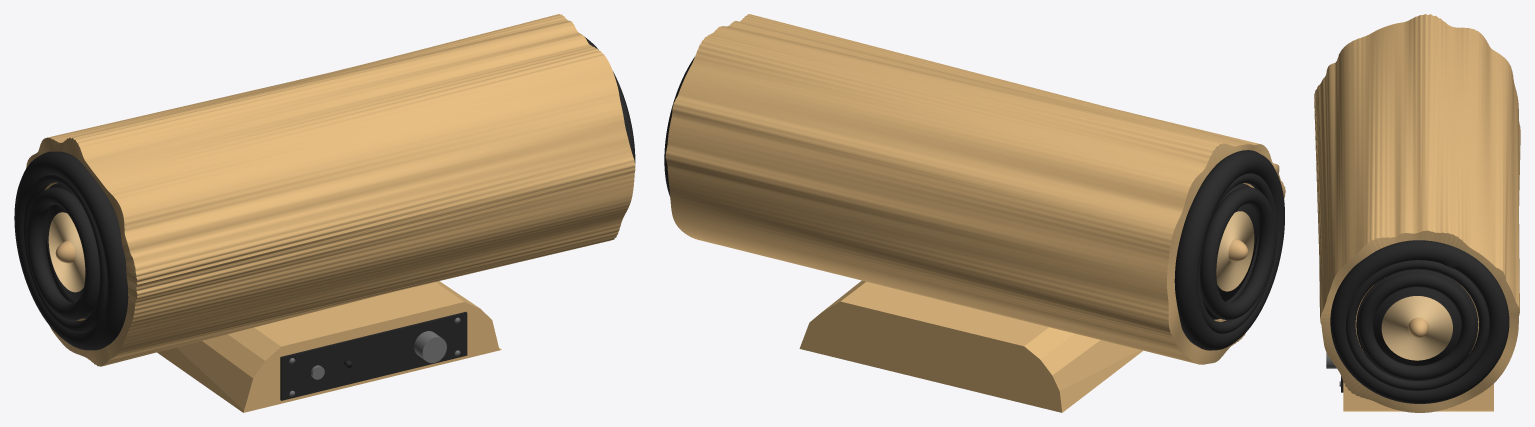
File: nenrin-speaker-new.glb
3 renders of one model, left to right at view 1: azimuth 30°, elevation 25°; view 2: azimuth 150°, elevation 25°; view 3: azimuth 270°, elevation 25°, orthographic. The views are drawn at different scales.
Visible parts, largest first — view 1: cedar_bright, matte_black, matte_black.008, cedar_endgrain, rubber_surround.003, endgrain_wood, matte_black.005, wood_cone.004, matte_black.009; view 2: cedar_bright, cedar_endgrain, matte_black.008, rubber_surround.003, endgrain_wood, wood_cone.004, matte_black.005, matte_black.009; view 3: cedar_bright, matte_black.001, endgrain_wood, rubber_surround.002, matte_black.003, wood_cone.003, matte_black, copper_cap.
Boxes of the visible parts, bbox=[...] form: cedar_bright: bbox=[48, 14, 635, 412]; matte_black: bbox=[280, 311, 467, 400]; matte_black.008: bbox=[14, 151, 128, 350]; cedar_endgrain: bbox=[243, 302, 499, 412]; rubber_surround.003: bbox=[26, 187, 99, 319]; endgrain_wood: bbox=[26, 137, 137, 366]; matte_black.005: bbox=[23, 175, 106, 332]; wood_cone.004: bbox=[48, 212, 85, 292]; matte_black.009: bbox=[43, 183, 89, 318]; cedar_bright: bbox=[665, 14, 1275, 412]; cedar_endgrain: bbox=[799, 301, 1062, 412]; matte_black.008: bbox=[1174, 150, 1284, 350]; rubber_surround.003: bbox=[1200, 187, 1275, 319]; endgrain_wood: bbox=[1167, 143, 1285, 364]; wood_cone.004: bbox=[1216, 211, 1254, 291]; matte_black.005: bbox=[1198, 173, 1277, 333]; matte_black.009: bbox=[1202, 183, 1258, 319]; cedar_bright: bbox=[1314, 14, 1520, 411]; matte_black.001: bbox=[1330, 240, 1509, 403]; endgrain_wood: bbox=[1320, 230, 1519, 412]; rubber_surround.002: bbox=[1358, 272, 1476, 380]; matte_black.003: bbox=[1346, 260, 1489, 390]; wood_cone.003: bbox=[1381, 296, 1452, 360]; matte_black: bbox=[1341, 269, 1478, 392]; copper_cap: bbox=[1408, 317, 1428, 338].
Bounding box in the file's own units: 0.3203 × 0.1486 × 0.1183.
